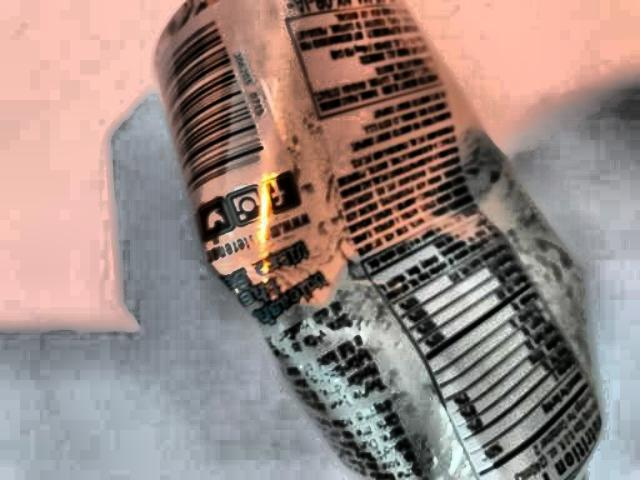Bottles: (123, 0, 615, 480)
